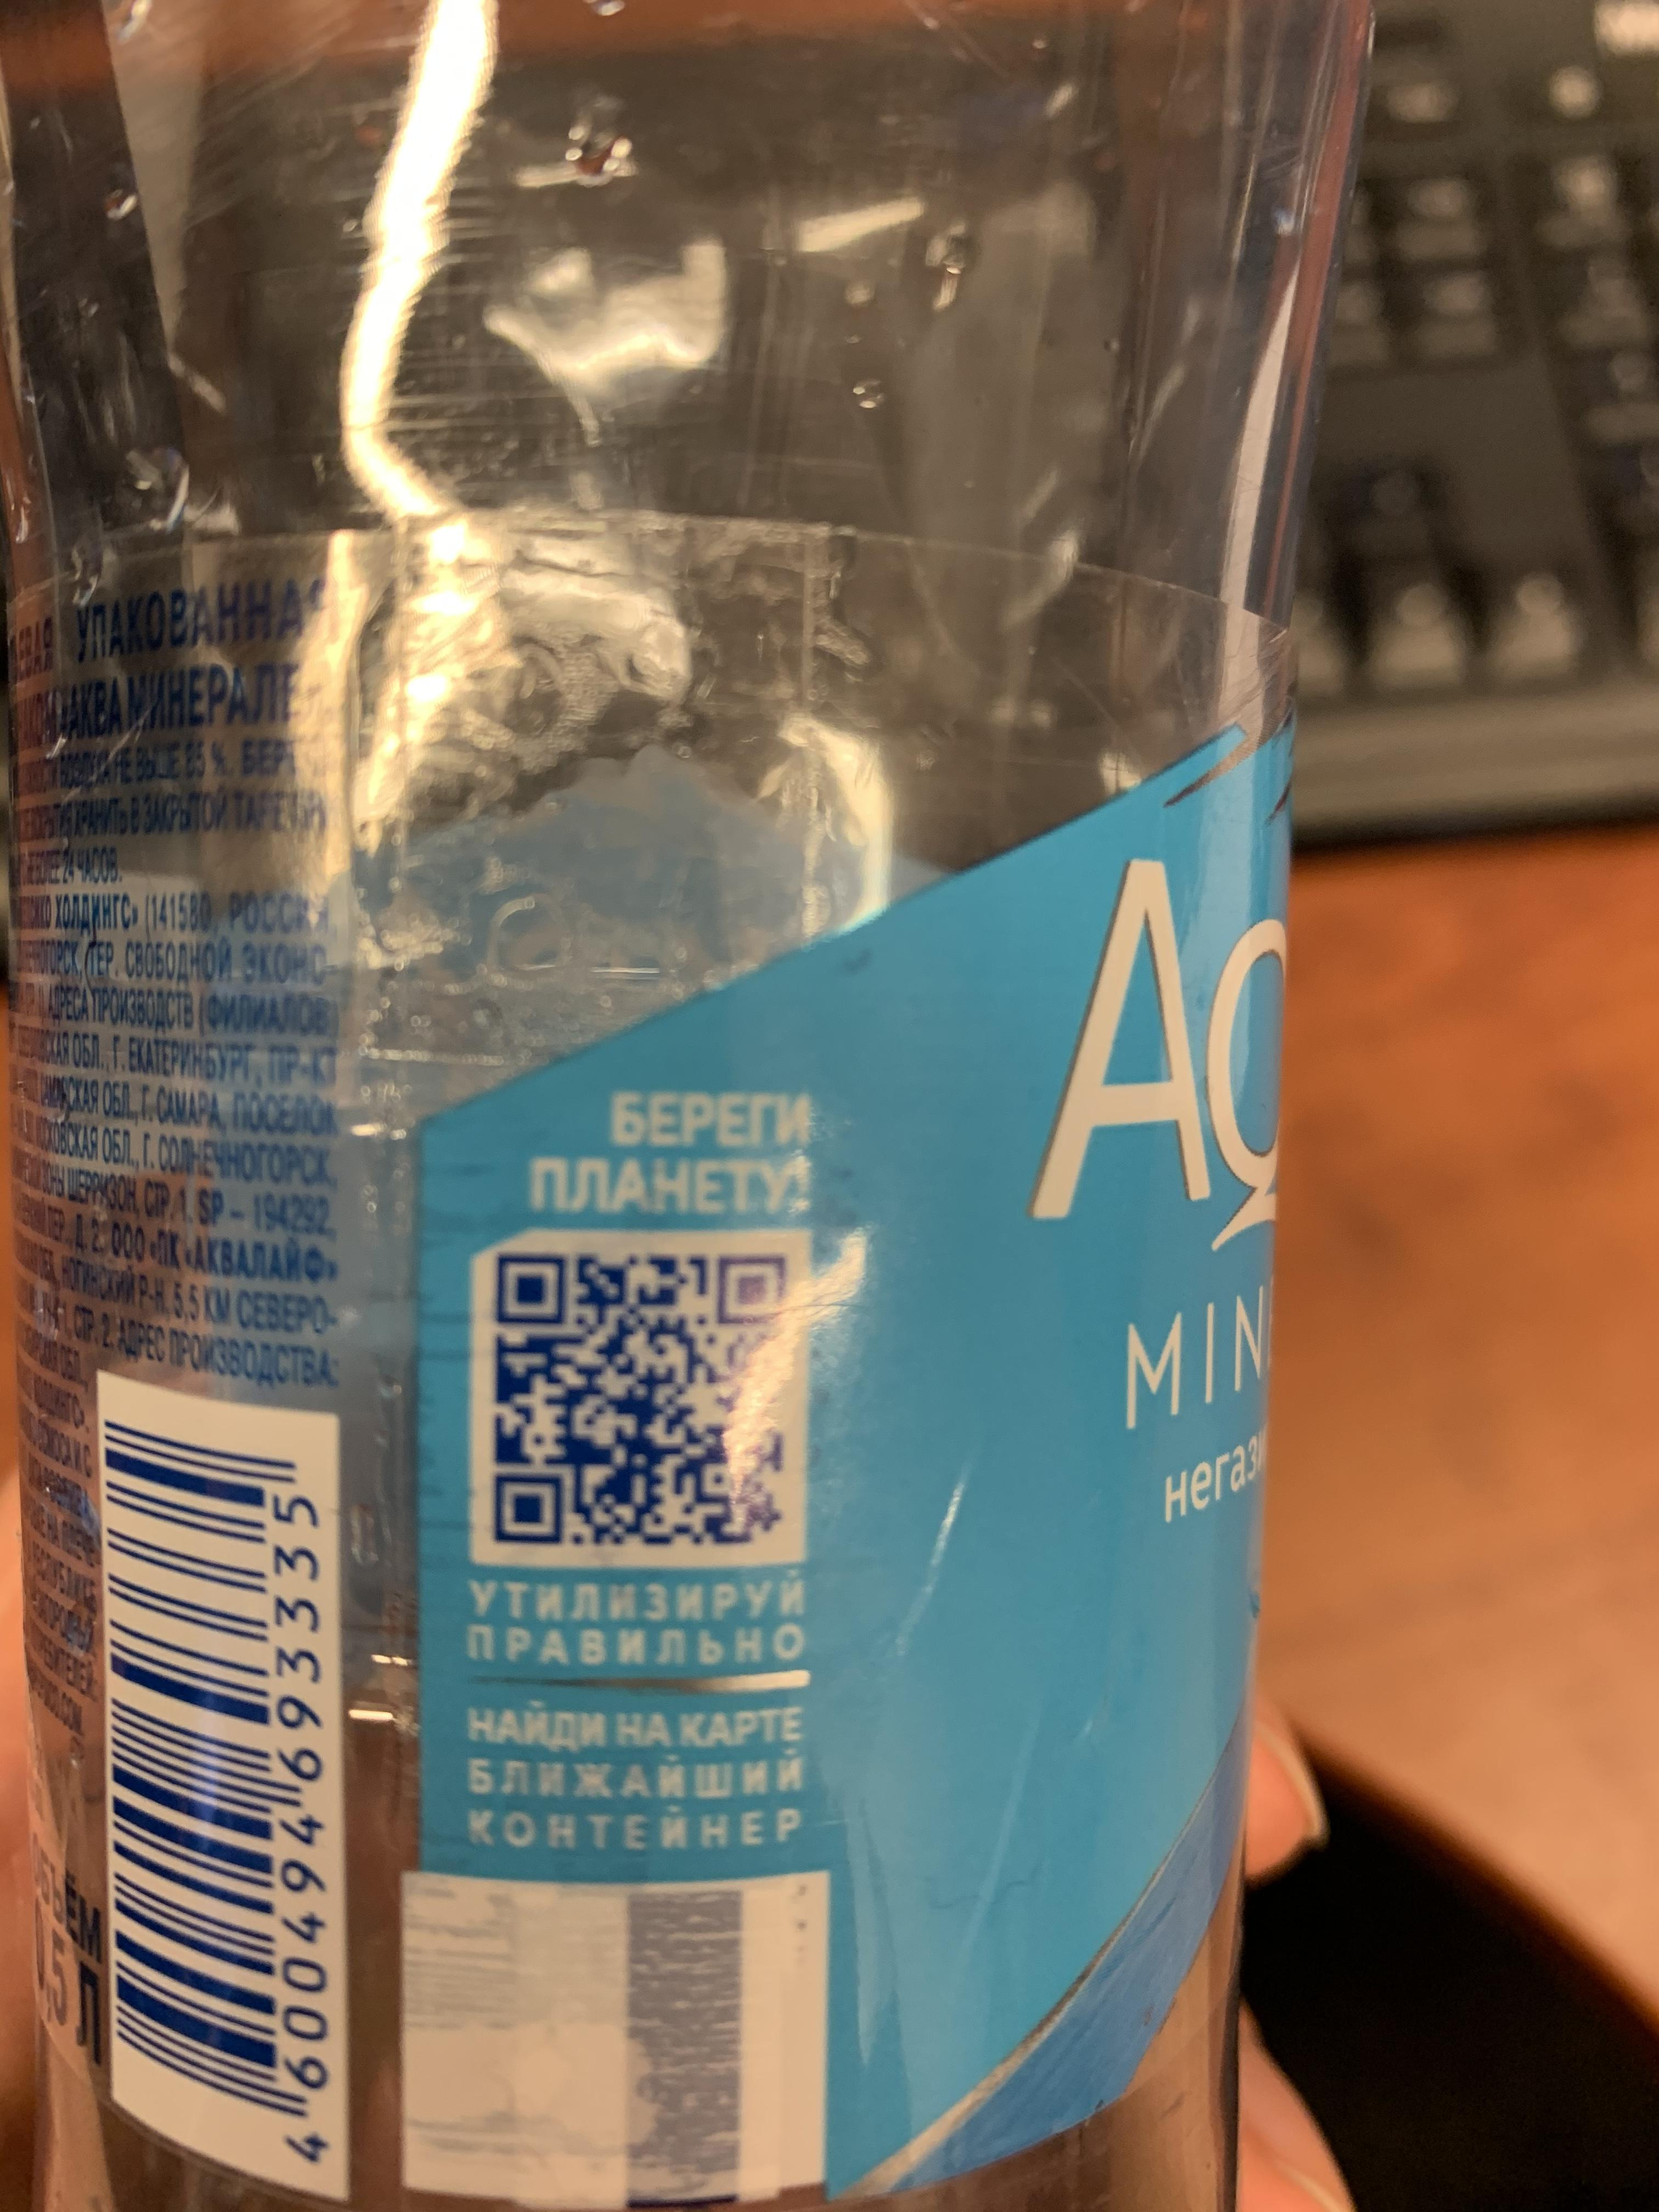qrcode: (495, 1251, 784, 1550)
